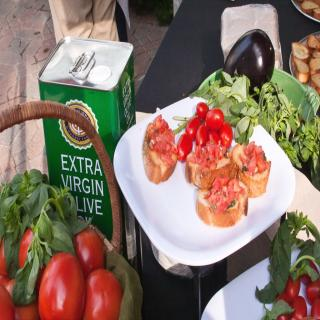tomato: (36, 251, 82, 319), (86, 270, 125, 320), (72, 228, 103, 277), (4, 274, 37, 319), (18, 226, 38, 284), (176, 130, 194, 164), (298, 259, 320, 286), (0, 280, 14, 320), (290, 296, 311, 320), (205, 105, 225, 128), (285, 271, 301, 299), (218, 120, 233, 148), (185, 114, 201, 140), (278, 292, 290, 319), (196, 125, 209, 146), (308, 298, 320, 320), (0, 236, 6, 276), (209, 127, 220, 147), (196, 102, 208, 119)
